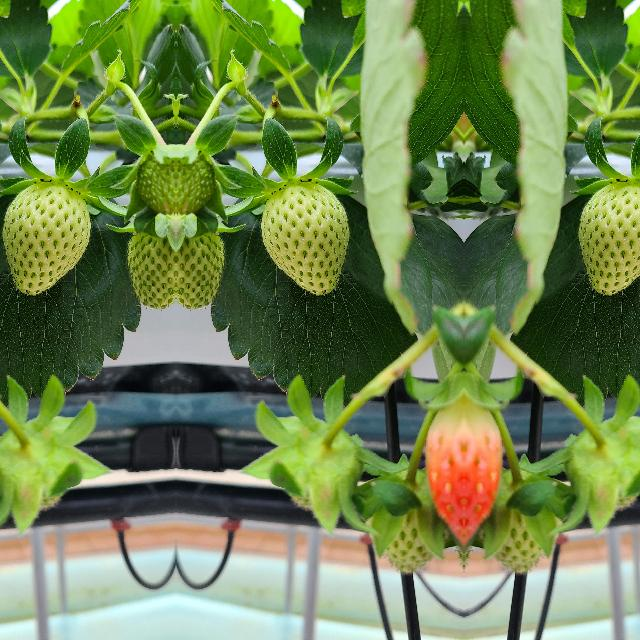Health_25: (260, 183, 348, 294), (2, 183, 90, 294), (371, 472, 449, 572), (477, 472, 555, 572), (578, 183, 640, 294), (175, 222, 225, 310), (125, 222, 175, 310)
